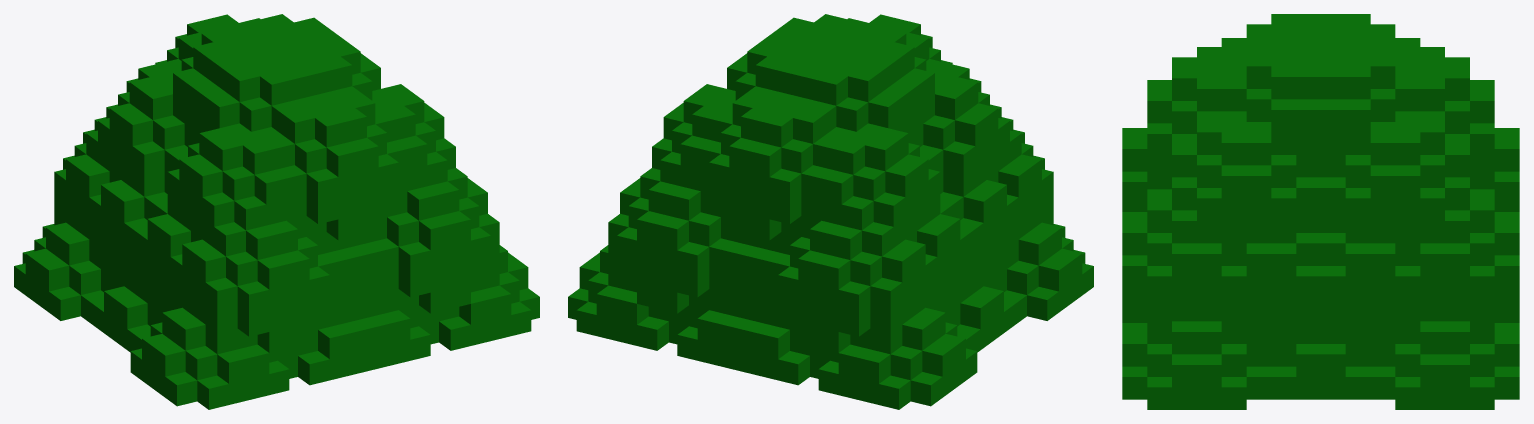
The model's file is shrub.obj.
3 views of the same model, side by side, from view 1: azimuth 30°, elevation 25°; view 2: azimuth 150°, elevation 25°; view 3: azimuth 270°, elevation 25° (orthographic). The views are drawn at different scales.
Size of the model in its own units: 1.8 by 1.2 by 1.6.
Materials: 1 (1 with a texture image).
